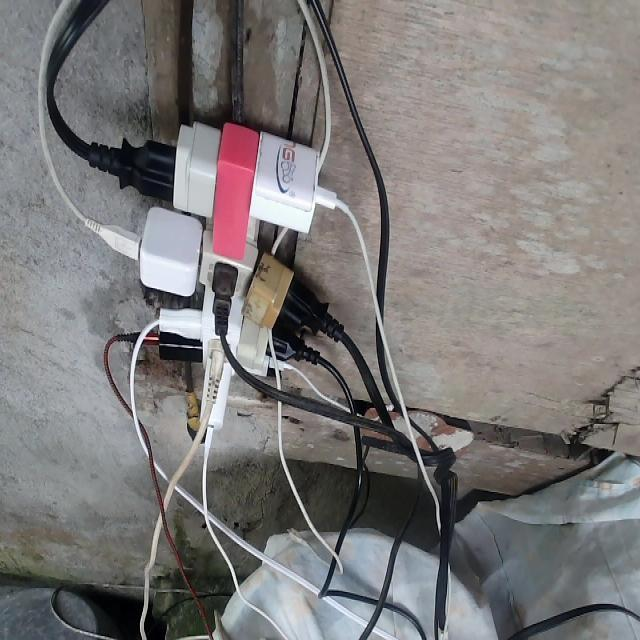-: (80, 121, 349, 427)
